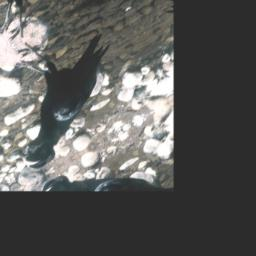Crow: (0, 5, 142, 176)
